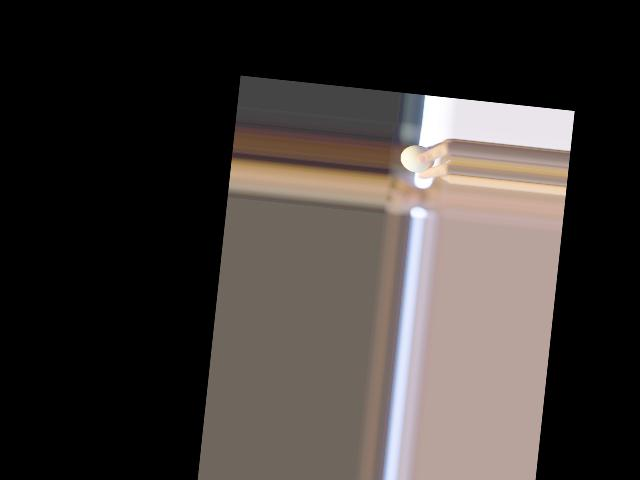egg: (399, 144, 436, 175)
